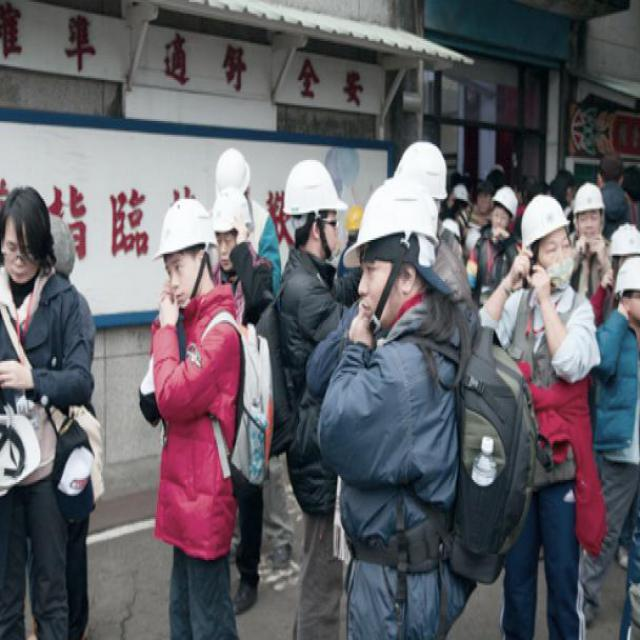helmet: (362, 140, 440, 320), (284, 148, 344, 264), (519, 177, 570, 287), (152, 201, 211, 283), (206, 193, 254, 281), (564, 164, 604, 248), (605, 213, 639, 301), (483, 178, 517, 240), (212, 144, 249, 194)
